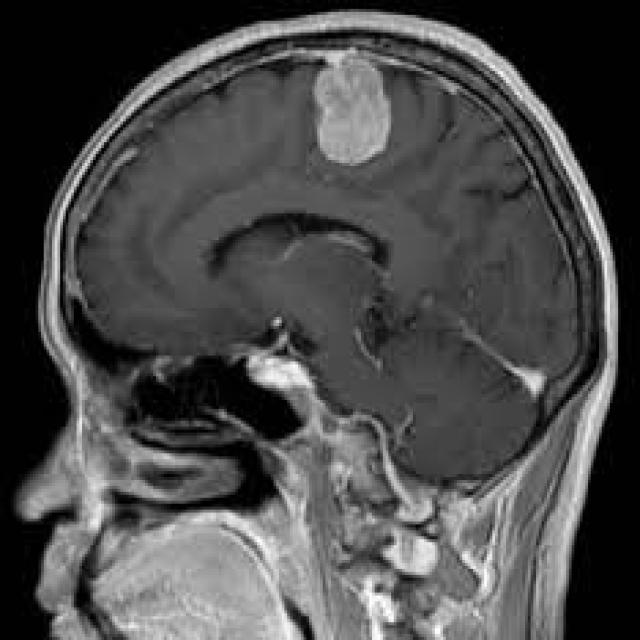brain_tumor: (314, 57, 391, 165)
